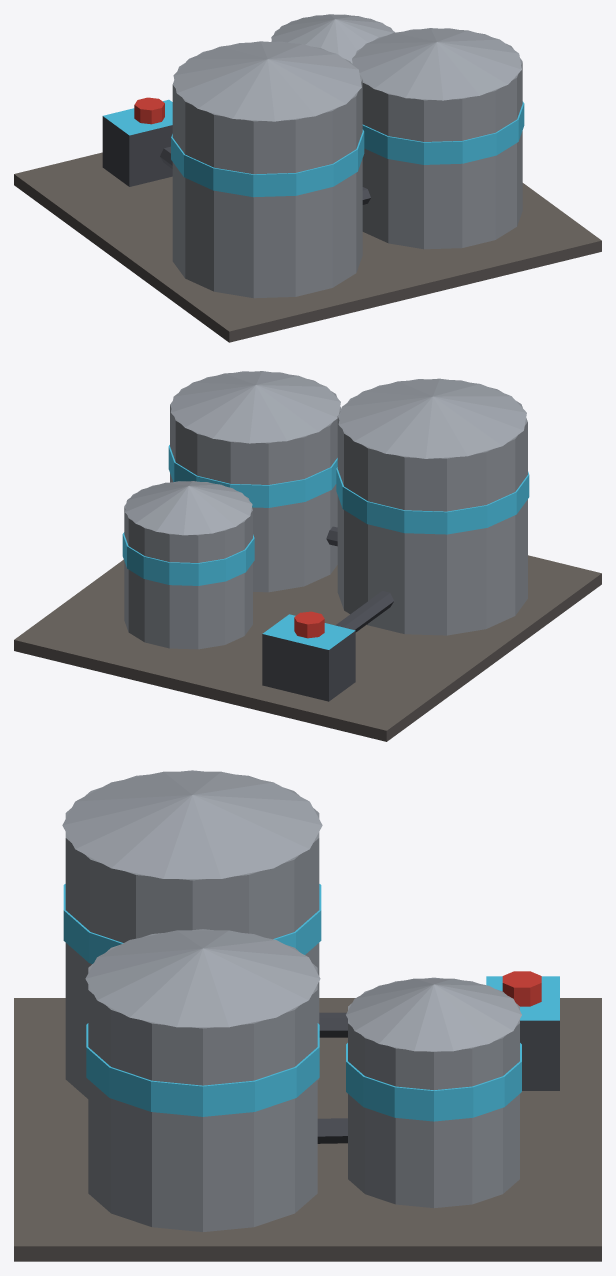
The model's file is tank_farm.glb.
3 views of the same model, one above another, from view 1: azimuth 30°, elevation 25°; view 2: azimuth 150°, elevation 25°; view 3: azimuth 270°, elevation 25° (orthographic). The views are drawn at different scales.
Parts seen in each view (by area): view 1: tank_farm; view 2: tank_farm; view 3: tank_farm.
Part boxes in pixels (box(x1,y1,x2,y2)): tank_farm: box(14, 14, 601, 342); tank_farm: box(14, 371, 601, 741); tank_farm: box(14, 770, 601, 1261).
Size of the model in its own units: 2.8 by 1.51 by 2.8.
